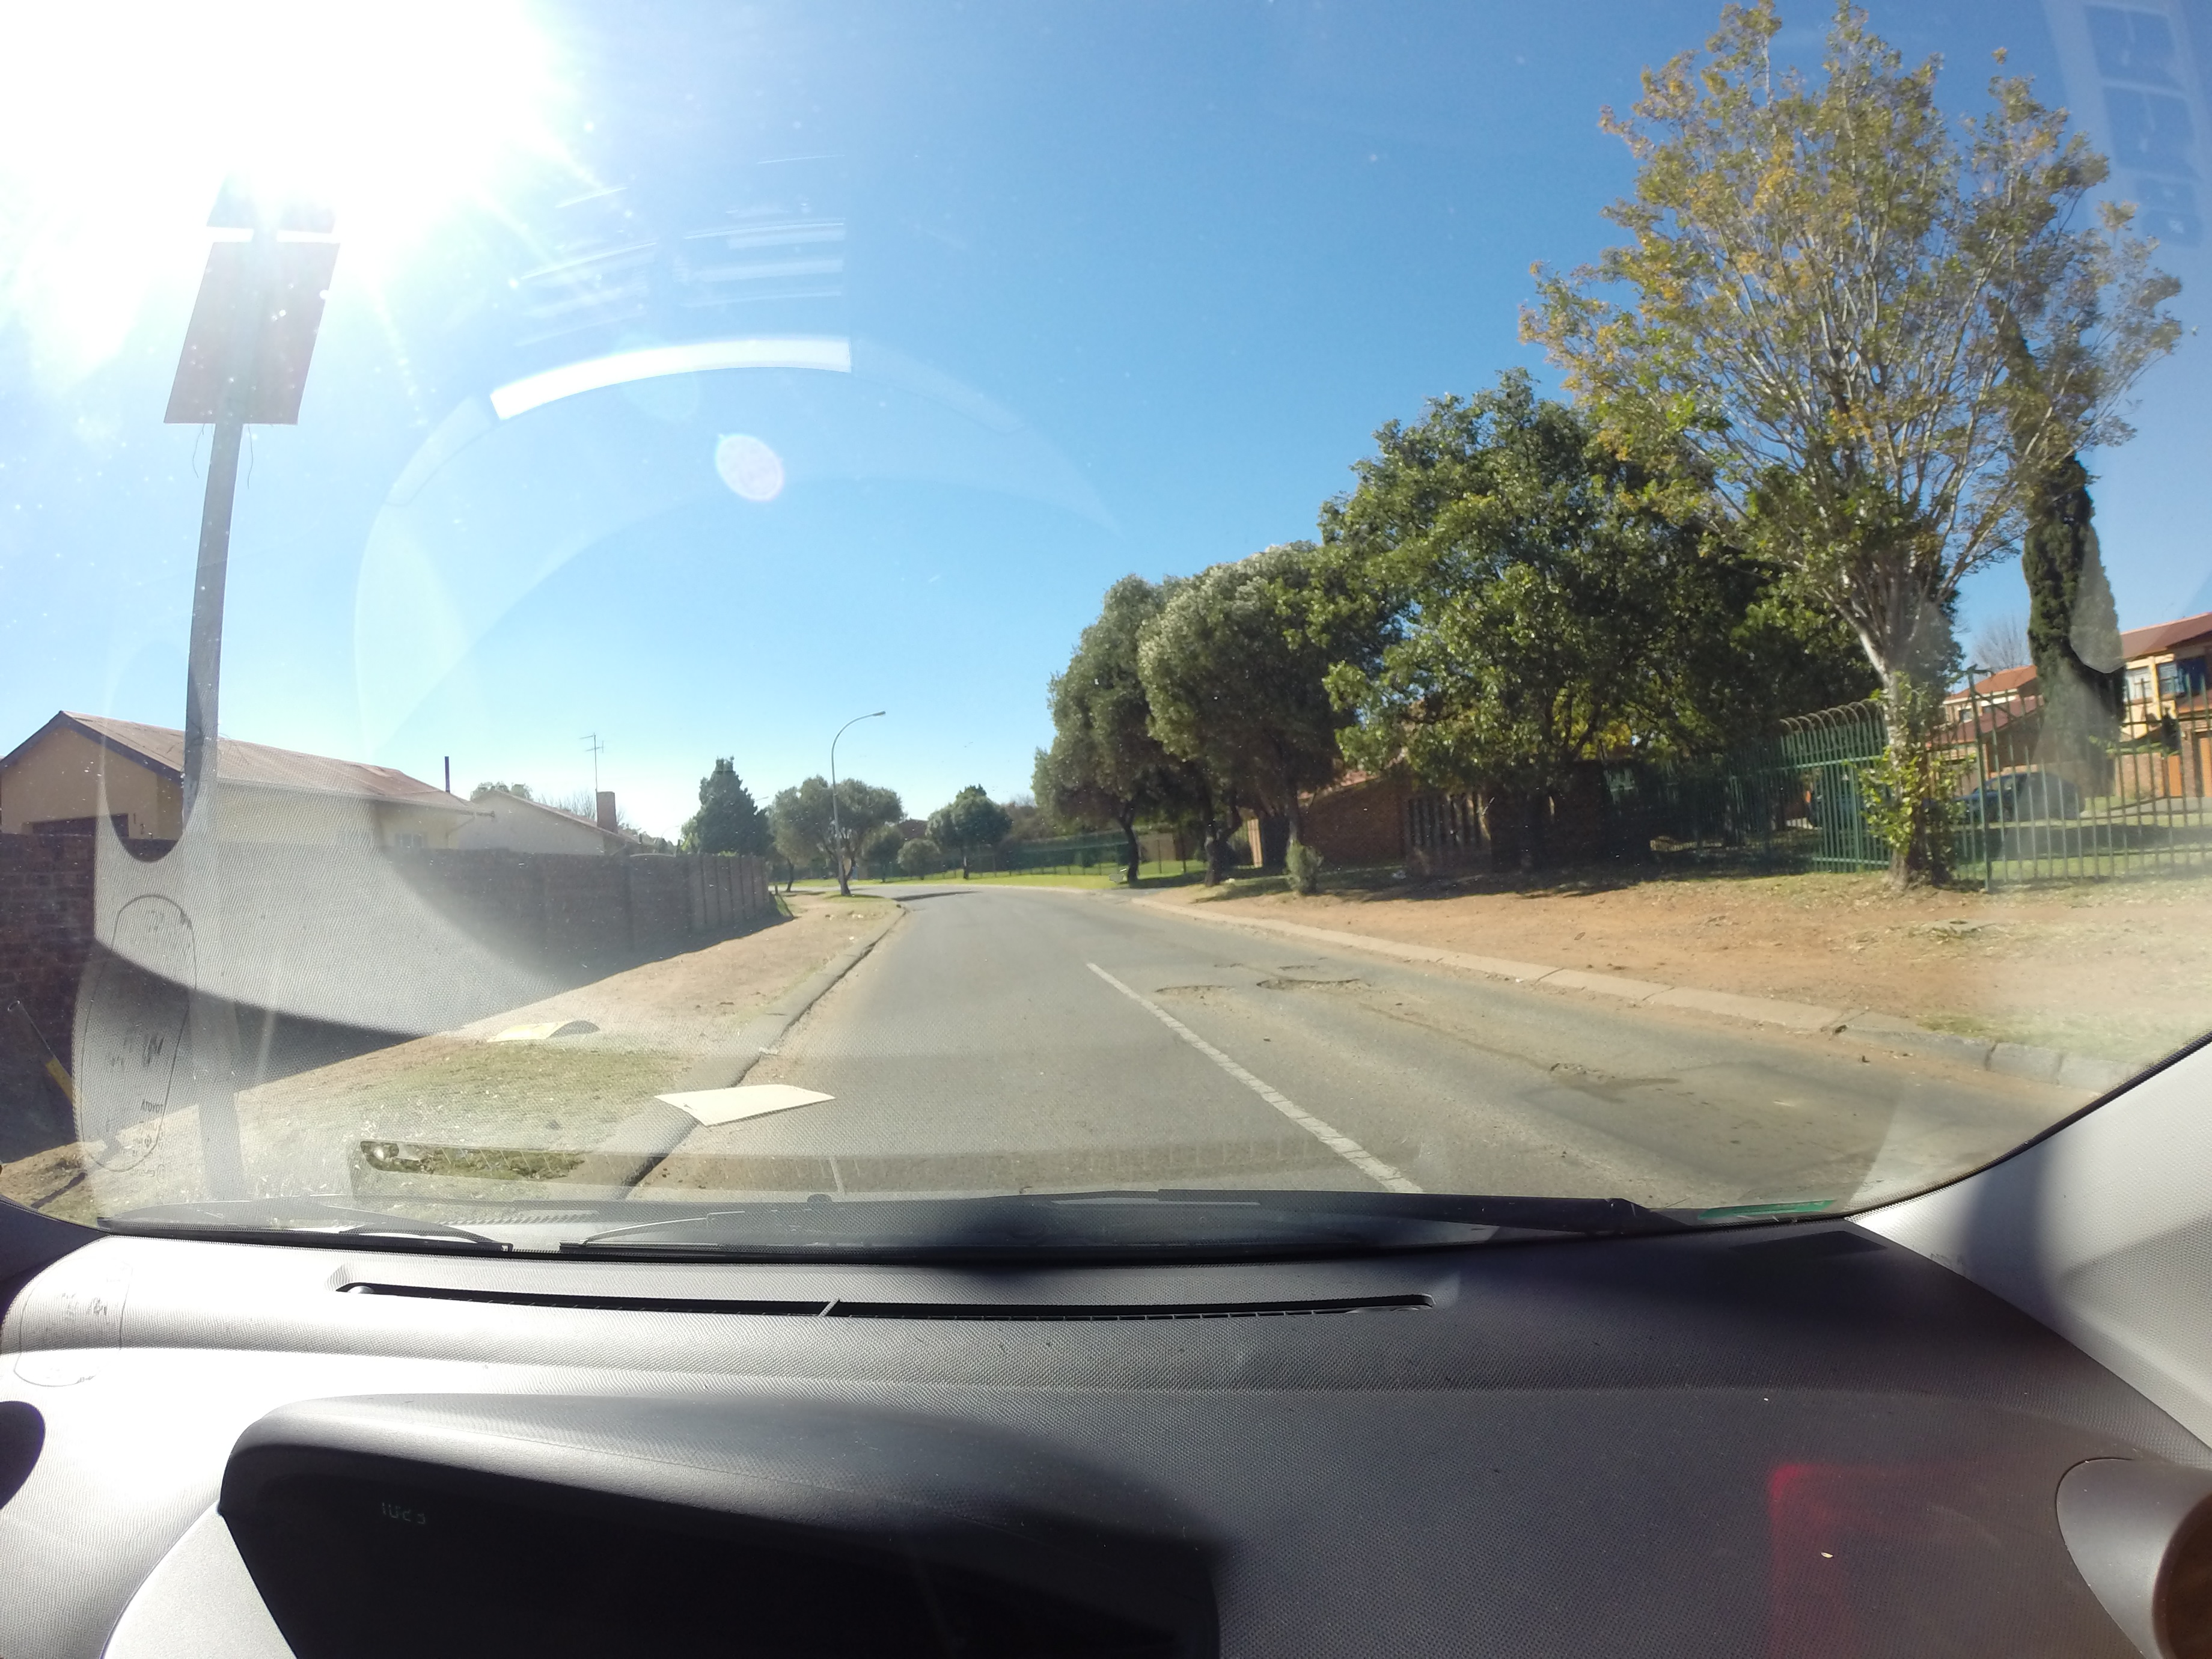pothole: (1136, 922, 1402, 1082)
